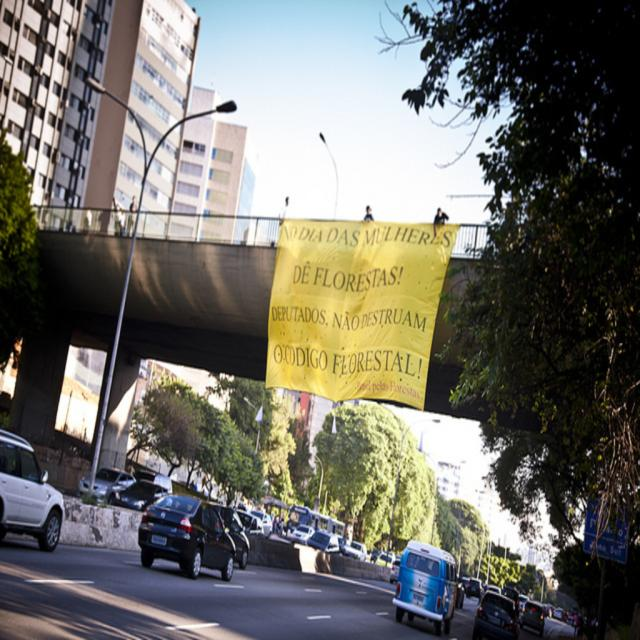car: (138, 489, 236, 580), (473, 587, 513, 637)
